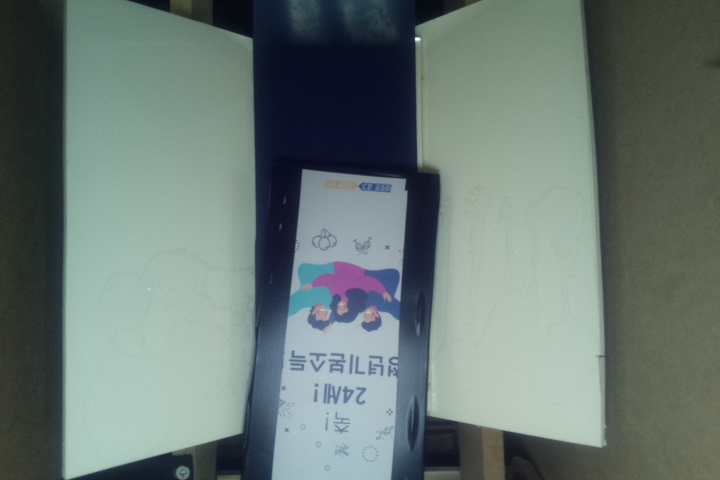book: (239, 174, 443, 480)
